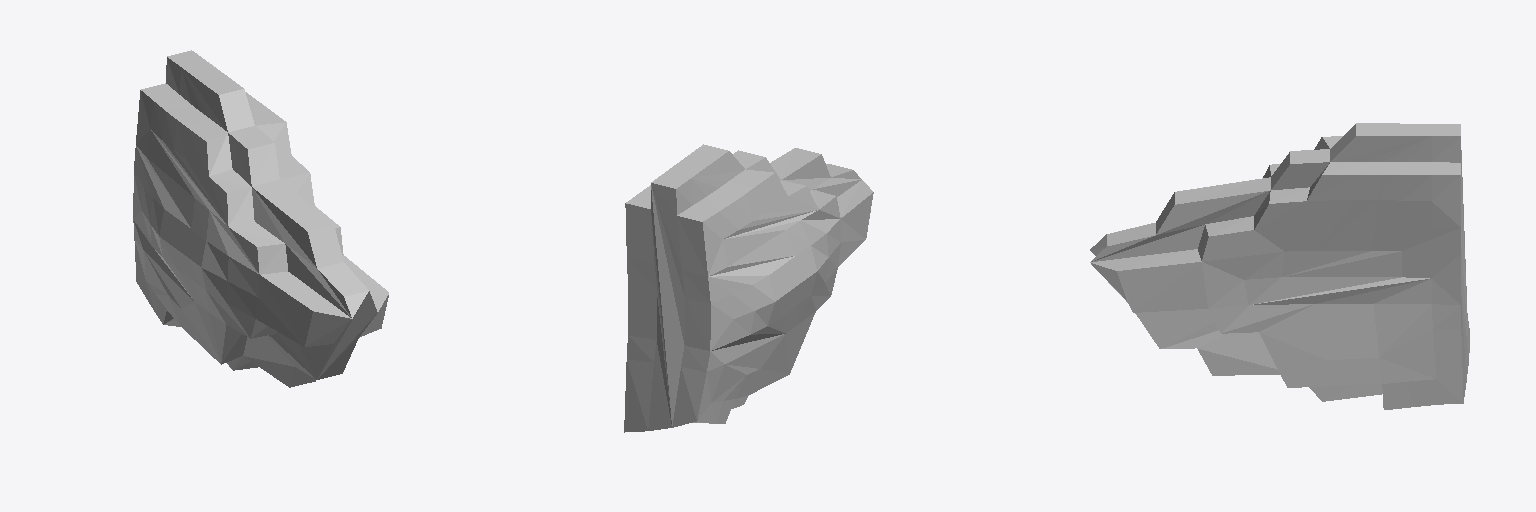
Rendered from HeavyDoubleShooterBot_LOD0-1.obj.
3 views of the same model, side by side, from view 1: azimuth 30°, elevation 25°; view 2: azimuth 150°, elevation 25°; view 3: azimuth 270°, elevation 25° (orthographic).
Parts seen in each view (by area): view 1: HeavyDoubleShooterBot_LOD0-1; view 2: HeavyDoubleShooterBot_LOD0-1; view 3: HeavyDoubleShooterBot_LOD0-1.
Part boxes in pixels (x1,y1,x2,y2): HeavyDoubleShooterBot_LOD0-1: (133,50,388,387); HeavyDoubleShooterBot_LOD0-1: (624,144,873,432); HeavyDoubleShooterBot_LOD0-1: (1090,123,1469,409).
Bounding box in the file's own units: 0.4092 × 0.9973 × 1.29.